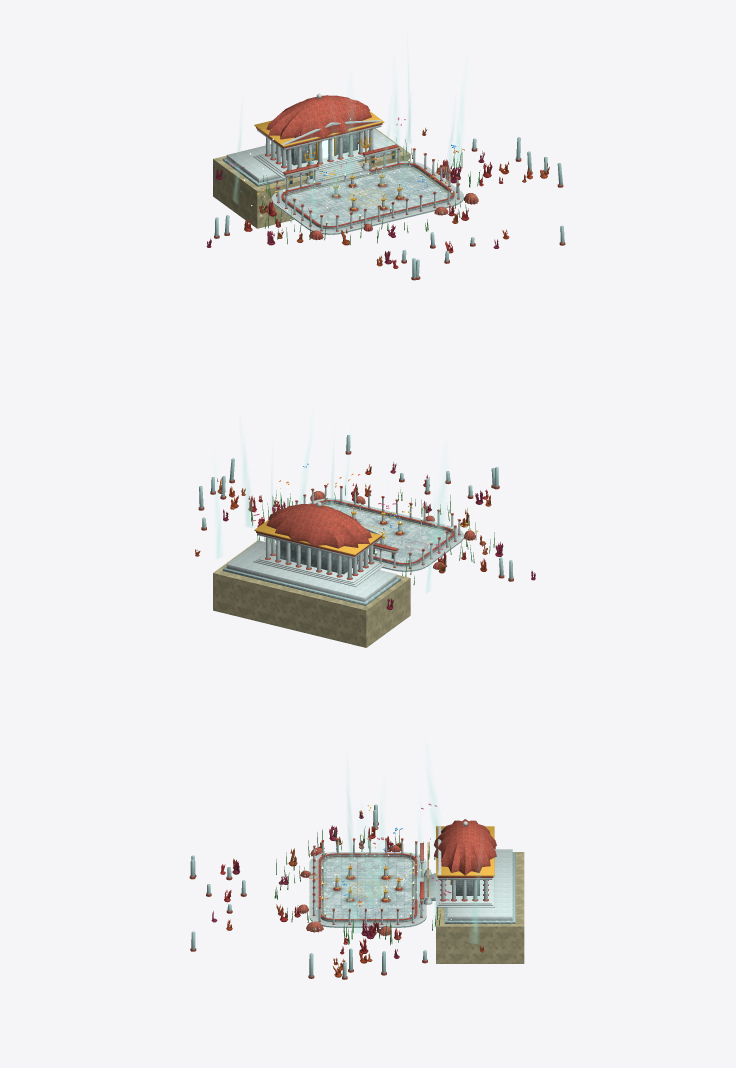
File: arena_atlantis.glb
The picture shows the model from 3 angles, top to bottom: view 1: azimuth 30°, elevation 25°; view 2: azimuth 150°, elevation 25°; view 3: azimuth 270°, elevation 25°; orthographic projection.
Visible parts, largest first — view 1: Temple, Ground, Reef, Walls, Rays, Decor; view 2: Temple, Reef, Ground, Rays, Walls, Decor; view 3: Temple, Ground, Reef, Rays, Walls, Decor.
Part boxes in pixels (left/top/right/bottom): Temple: left=213, top=93, right=410, bottom=228; Ground: left=284, top=166, right=451, bottom=225; Reef: left=206, top=128, right=565, bottom=280; Walls: left=271, top=161, right=463, bottom=234; Rays: left=233, top=68, right=463, bottom=218; Decor: left=275, top=135, right=459, bottom=231; Temple: left=213, top=502, right=410, bottom=647; Reef: left=195, top=435, right=535, bottom=609; Ground: left=322, top=503, right=451, bottom=562; Rays: left=215, top=440, right=445, bottom=592; Walls: left=275, top=498, right=464, bottom=571; Decor: left=287, top=484, right=460, bottom=568; Temple: left=424, top=819, right=524, bottom=963; Ground: left=321, top=857, right=416, bottom=918; Reef: left=189, top=804, right=495, bottom=979; Rays: left=339, top=774, right=480, bottom=943; Walls: left=309, top=852, right=426, bottom=927; Decor: left=312, top=838, right=432, bottom=924.
Bounding box in the file's own units: 240 × 57.09 × 240.
14 materials, 8 textured.
